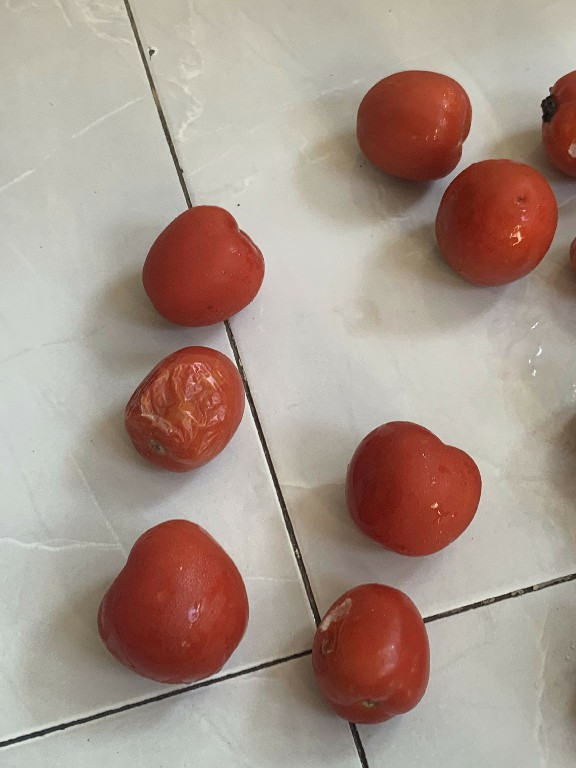NG: (119, 339, 255, 476), (305, 582, 432, 724)
OK: (92, 515, 256, 693), (337, 417, 482, 561), (429, 156, 556, 289), (136, 204, 268, 329), (351, 63, 470, 182)
